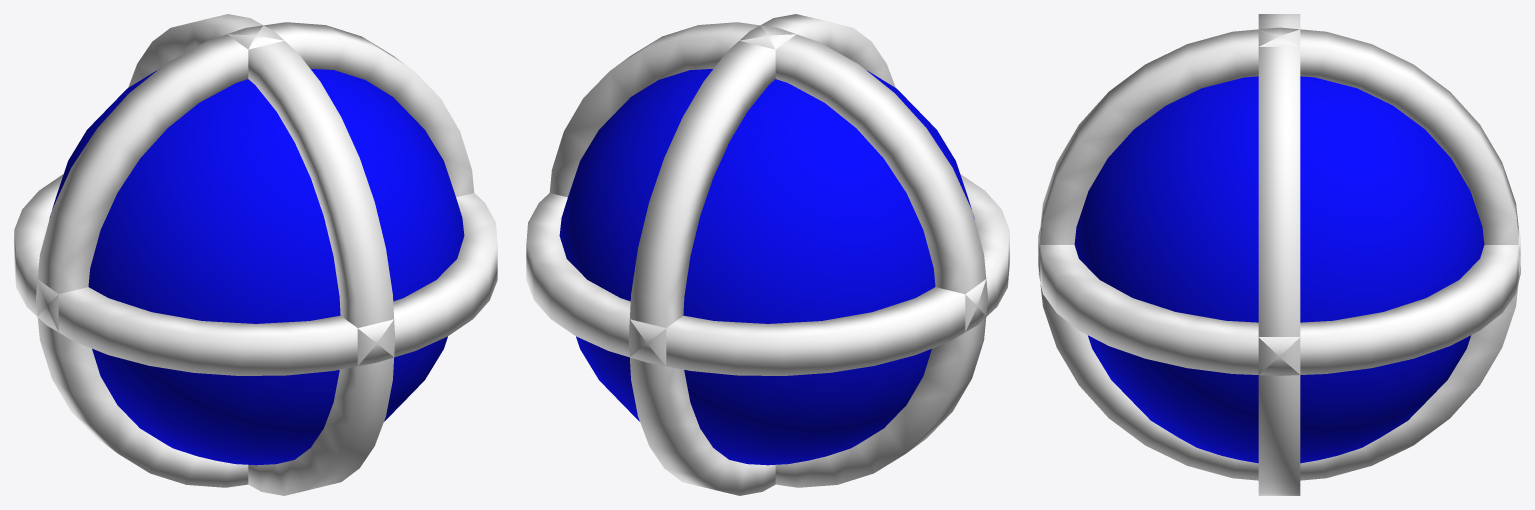
File: Ball-7.dae
3 renders of one model, left to right at view 1: azimuth 30°, elevation 25°; view 2: azimuth 150°, elevation 25°; view 3: azimuth 270°, elevation 25°, orthographic.
Visible parts, largest first — view 1: Ball; view 2: Ball; view 3: Ball.
Boxes of the visible parts, left/top/right/bottom form: Ball: left=14, top=14, right=497, bottom=495; Ball: left=526, top=14, right=1009, bottom=495; Ball: left=1038, top=14, right=1520, bottom=495.
Size of the model in its own units: 0.046 by 0.046 by 0.046.
